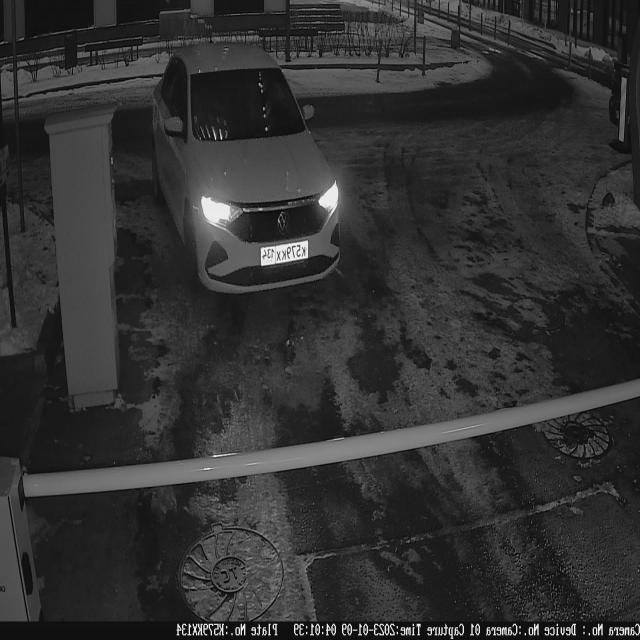car-plate-numbers: (259, 233, 312, 274)
